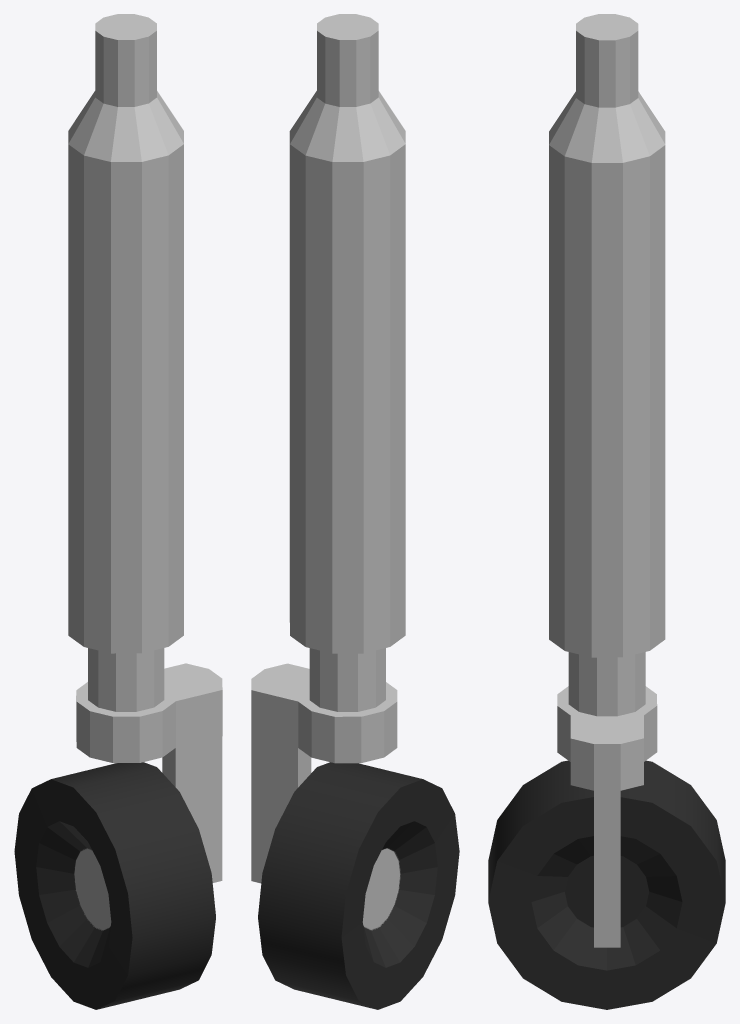
The model's file is LandingGear_Front.fbx.
3 renders of one model, left to right at view 1: azimuth 30°, elevation 25°; view 2: azimuth 150°, elevation 25°; view 3: azimuth 270°, elevation 25°, orthographic.
Parts seen in each view (by area): view 1: LandingGear_Front_Body, LandingGear_Wheel_Body; view 2: LandingGear_Front_Body, LandingGear_Wheel_Body; view 3: LandingGear_Front_Body, LandingGear_Wheel_Body.
Part boxes in pixels (left/top/right/bottom): LandingGear_Front_Body: left=68, top=14, right=222, bottom=882; LandingGear_Wheel_Body: left=14, top=762, right=215, bottom=1009; LandingGear_Front_Body: left=251, top=14, right=405, bottom=883; LandingGear_Wheel_Body: left=258, top=762, right=459, bottom=1009; LandingGear_Front_Body: left=549, top=14, right=665, bottom=947; LandingGear_Wheel_Body: left=488, top=760, right=725, bottom=1009.
Size of the model in its own units: 6.96 by 44.93 by 10.
